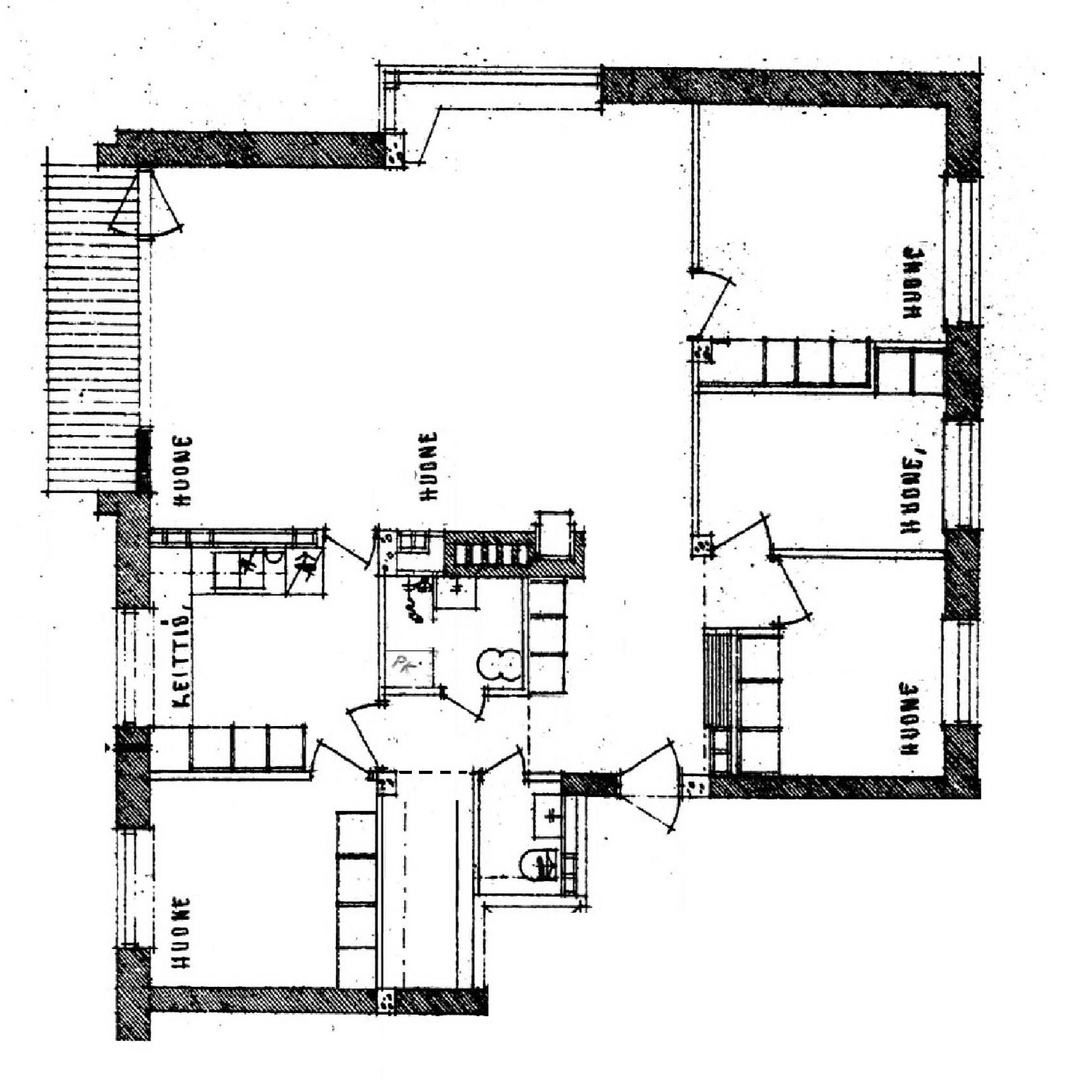wall: (943, 69, 978, 797), (377, 70, 979, 105), (116, 491, 151, 1012), (561, 772, 978, 797), (136, 132, 406, 169), (116, 986, 485, 1012), (378, 531, 528, 577), (136, 132, 151, 491), (151, 530, 378, 550), (561, 772, 586, 908), (691, 105, 698, 558), (377, 69, 406, 169), (378, 531, 385, 778), (151, 771, 385, 778), (471, 894, 586, 908), (472, 894, 485, 1012), (378, 687, 565, 695), (378, 779, 385, 986), (97, 491, 151, 516), (709, 726, 738, 772), (780, 550, 943, 558), (698, 385, 876, 392), (559, 569, 566, 695), (472, 772, 479, 894), (730, 627, 738, 726), (471, 772, 561, 780), (691, 550, 780, 558), (117, 132, 136, 166), (773, 550, 780, 635), (870, 340, 943, 347), (96, 144, 117, 166), (730, 627, 780, 635), (870, 340, 877, 392), (527, 570, 566, 577), (703, 627, 731, 635)
